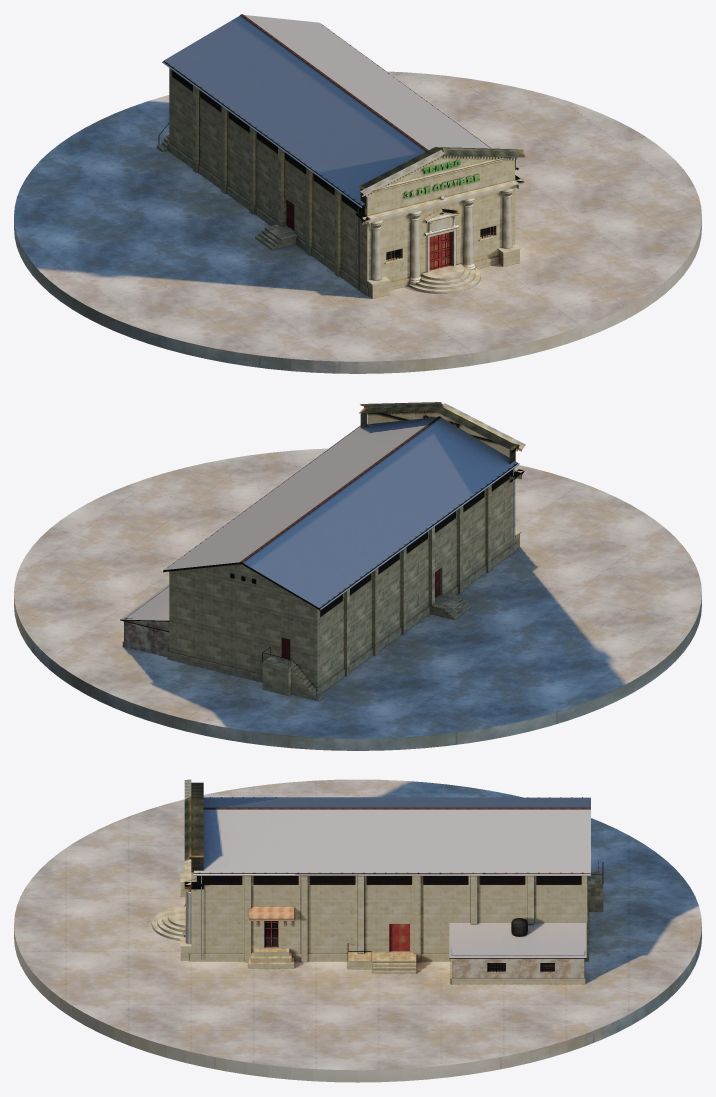
The model's file is Teatro5.glb.
The picture shows the model from 3 angles, top to bottom: view 1: azimuth 30°, elevation 25°; view 2: azimuth 150°, elevation 25°; view 3: azimuth 270°, elevation 25°; orthographic projection.
Parts seen in each view (by area): view 1: teatro_ar; view 2: teatro_ar; view 3: teatro_ar.
Part boxes in pixels (x1,y1,x2,y2): teatro_ar: (14, 14, 701, 373); teatro_ar: (14, 402, 701, 750); teatro_ar: (14, 779, 701, 1082).
Size of the model in its own units: 1.32 by 0.3001 by 1.32.
1 material, 1 textured.
